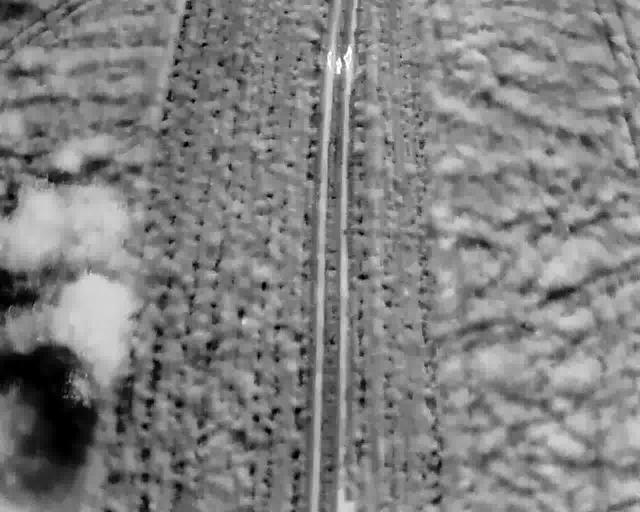person: (335, 57, 342, 74), (342, 55, 350, 68), (346, 45, 352, 62), (326, 51, 332, 67)
